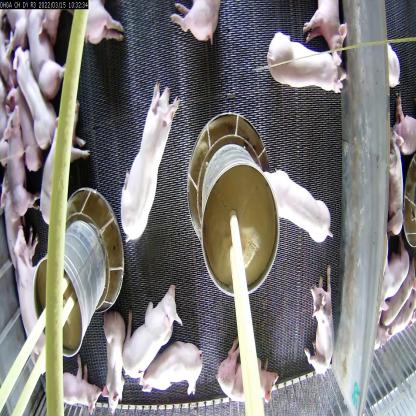Pig: (119, 76, 176, 239), (266, 29, 353, 120), (8, 238, 55, 402), (260, 162, 340, 250), (25, 117, 92, 217), (119, 273, 177, 385), (12, 47, 62, 153), (220, 328, 279, 415), (134, 338, 209, 401), (307, 263, 341, 383), (96, 298, 128, 398)
